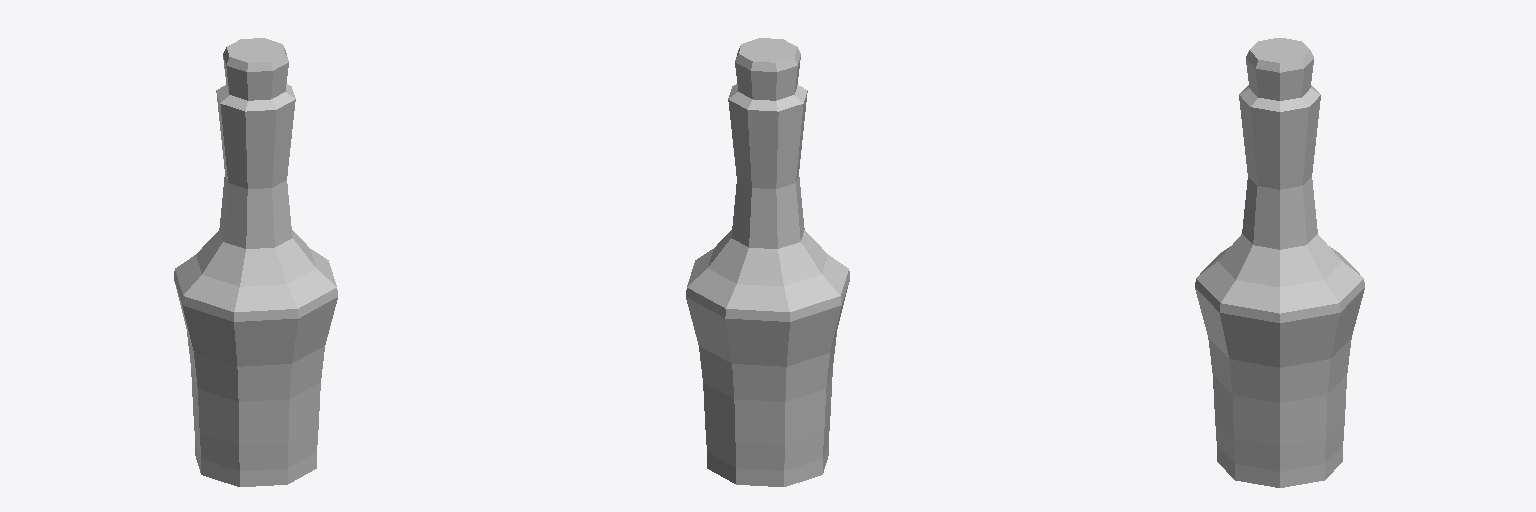
The model's file is bottle.obj.
3 renders of one model, left to right at view 1: azimuth 30°, elevation 25°; view 2: azimuth 150°, elevation 25°; view 3: azimuth 270°, elevation 25°, orthographic.
Visible parts, largest first — view 1: small_health_poti.003_Cylinder.010; view 2: small_health_poti.003_Cylinder.010; view 3: small_health_poti.003_Cylinder.010.
Boxes of the visible parts, box(x1,y1,x2,y2) form: small_health_poti.003_Cylinder.010: box(174, 38, 337, 486); small_health_poti.003_Cylinder.010: box(686, 38, 849, 486); small_health_poti.003_Cylinder.010: box(1195, 38, 1364, 487).
Size of the model in its own units: 3.4 by 9.06 by 3.4.